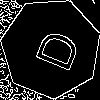D: (26, 23, 81, 74)
